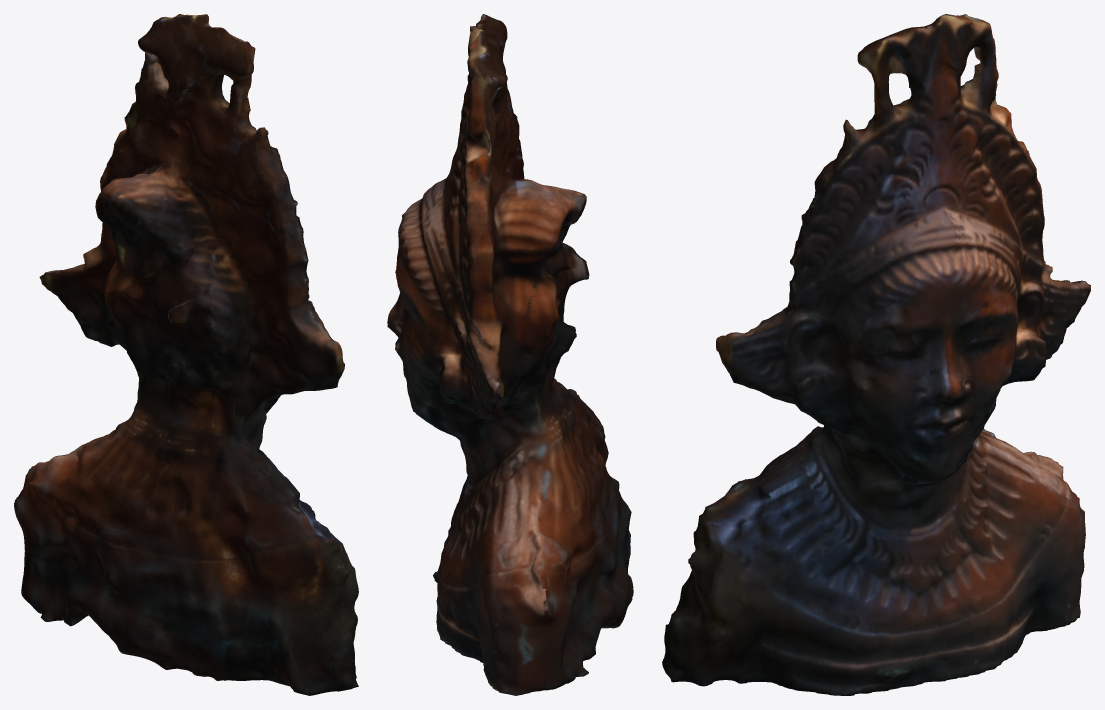
Rendered from TIKIWOMAN.fbx.
3 renders of one model, left to right at view 1: azimuth 30°, elevation 25°; view 2: azimuth 150°, elevation 25°; view 3: azimuth 270°, elevation 25°, orthographic. The views are drawn at different scales.
Parts seen in each view (by area): view 1: tikiwoman_RCFINAL; view 2: tikiwoman_RCFINAL; view 3: tikiwoman_RCFINAL.
Part boxes in pixels (bbox=[...]): tikiwoman_RCFINAL: bbox=[14, 14, 358, 695]; tikiwoman_RCFINAL: bbox=[387, 14, 633, 695]; tikiwoman_RCFINAL: bbox=[662, 14, 1090, 695].
Bounding box in the file's own units: 49.15 × 128 × 77.14.
